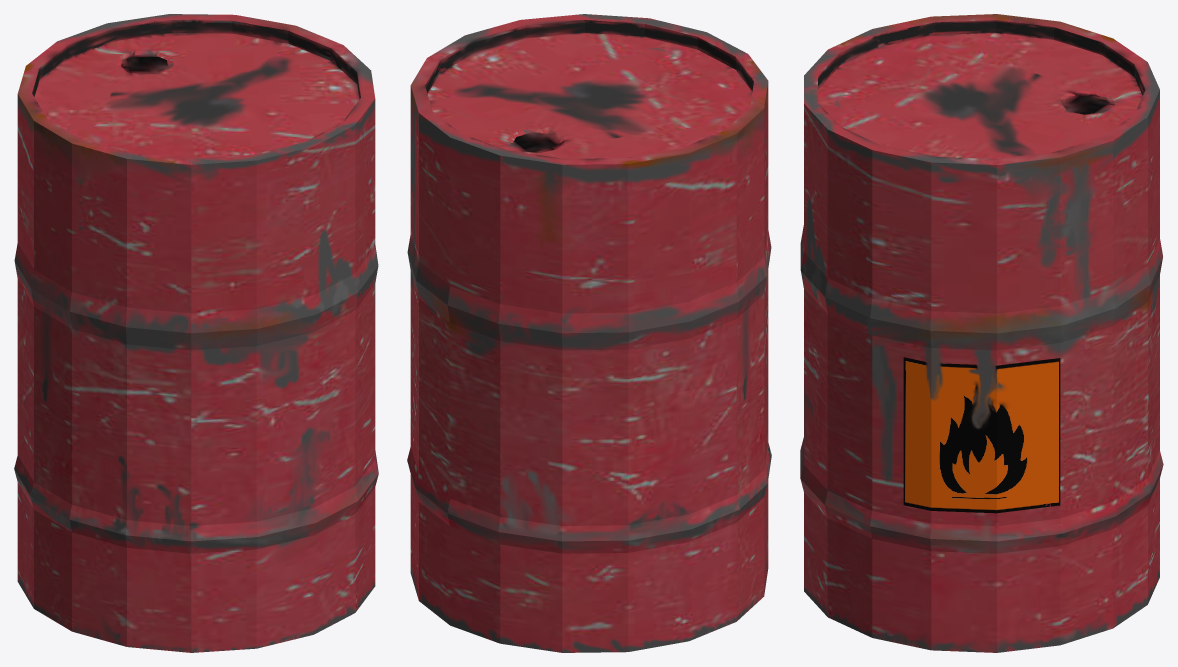
File: barrel.fbx
The picture shows the model from 3 angles, left to right: view 1: azimuth 30°, elevation 25°; view 2: azimuth 150°, elevation 25°; view 3: azimuth 270°, elevation 25°; orthographic projection.
Visible parts, largest first — view 1: Circle; view 2: Circle; view 3: Circle.
Boxes of the visible parts, x1,y1,x2,y2 form: Circle: (14, 14, 378, 652); Circle: (407, 14, 771, 652); Circle: (800, 14, 1163, 652).
Size of the model in its own units: 204 by 301 by 203.
1 material, 1 textured.
